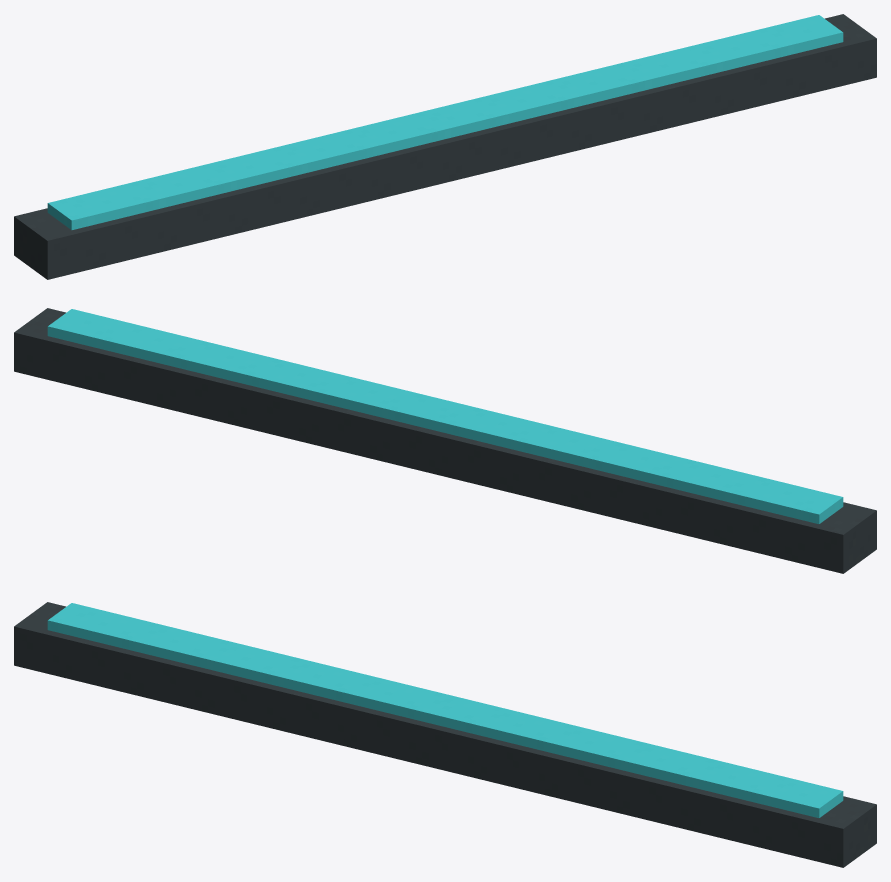
File: low-poly-sci-fi-light-strip.glb
The picture shows the model from 3 angles, top to bottom: view 1: azimuth 30°, elevation 25°; view 2: azimuth 150°, elevation 25°; view 3: azimuth 330°, elevation 25°; orthographic projection.
Visible parts, largest first — view 1: Light rail 001, Light diffuser 002; view 2: Light rail 001, Light diffuser 002; view 3: Light rail 001, Light diffuser 002.
Boxes of the visible parts, x1,y1,x2,y2 form: Light rail 001: (14, 14, 876, 279); Light diffuser 002: (47, 15, 843, 229); Light rail 001: (14, 308, 876, 573); Light diffuser 002: (47, 309, 843, 523); Light rail 001: (14, 602, 876, 867); Light diffuser 002: (47, 603, 843, 817).
Size of the model in its own units: 2 by 0.1125 by 0.14.
Materials: 2 (2 with a texture image).
